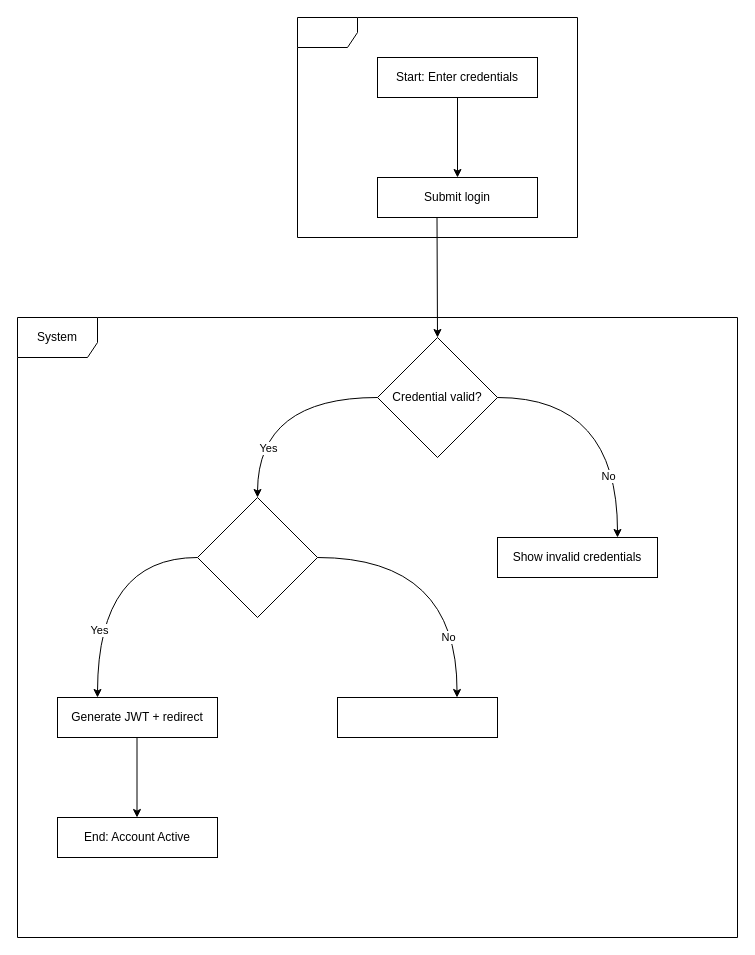
Image size: 755x955. Some labels were removed from this diagram. The shapes that lost their labels are listed below. From the top down, each one's centre as x and y in pixels, then its label:
At (437,127): "Student".
At (257,557): "Account verified?".
At (417,717): "Show verify account".
